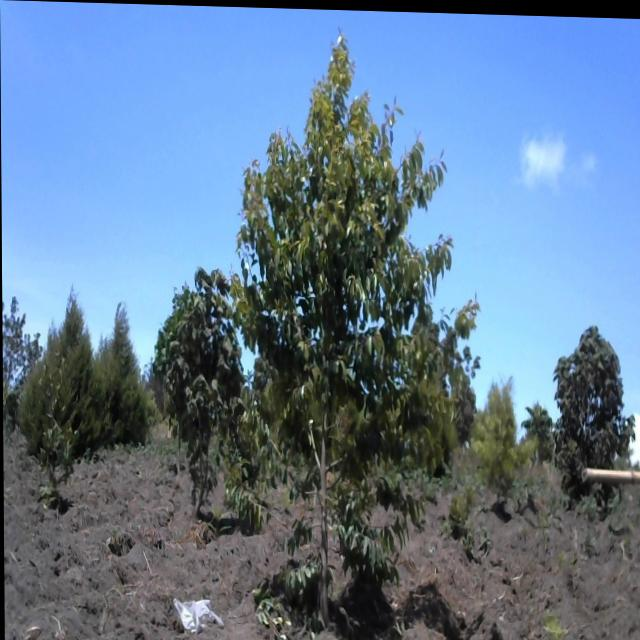Hass Avocado: (227, 5, 467, 635)
Podocarpus falcatus: (0, 0, 67, 180)
cedrus: (16, 278, 107, 516), (95, 294, 156, 475)
other: (544, 309, 638, 548), (163, 255, 232, 539)
